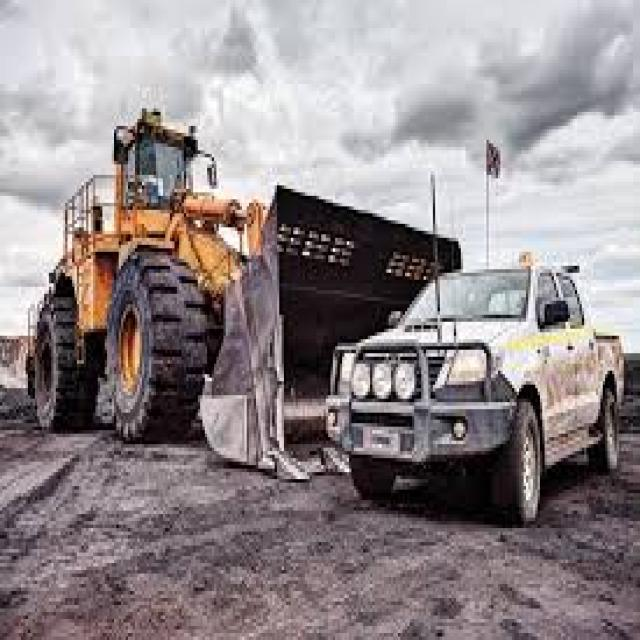buldozerpayloadergrader: (0, 60, 435, 549)
light_vehicle: (310, 227, 619, 528)
